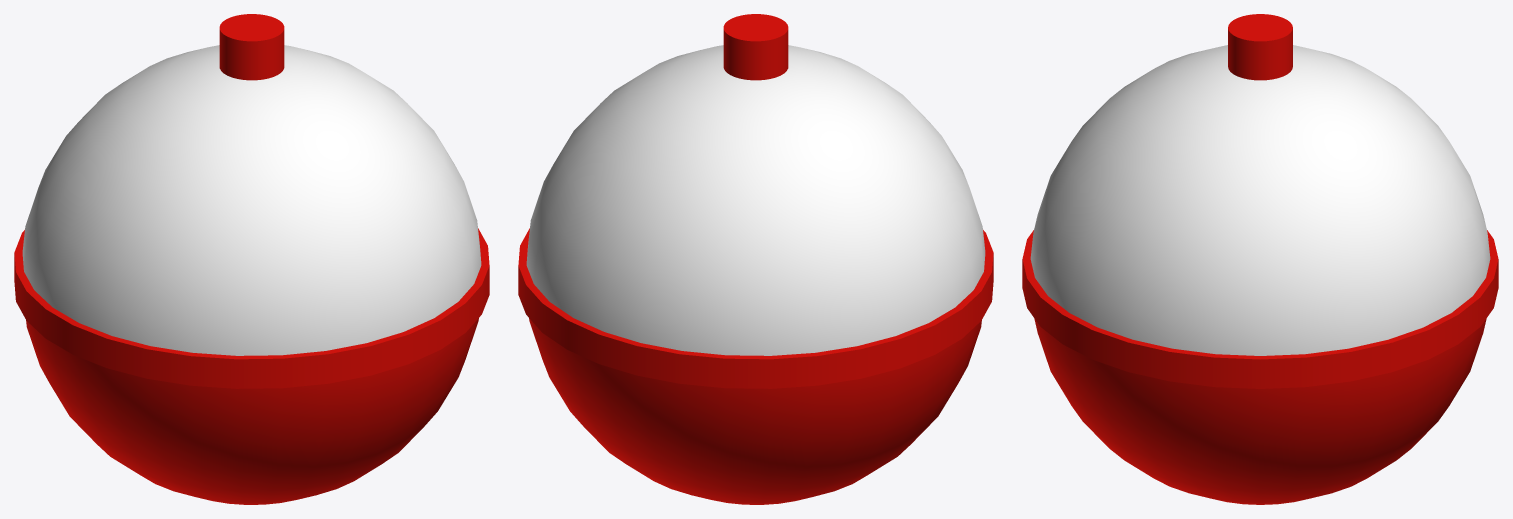
The model's file is default_bobber.fbx.
3 renders of one model, left to right at view 1: azimuth 30°, elevation 25°; view 2: azimuth 150°, elevation 25°; view 3: azimuth 270°, elevation 25°, orthographic.
Parts seen in each view (by area): view 1: Sphere, Middle Cylinder, Top Cylinder; view 2: Sphere, Middle Cylinder, Top Cylinder; view 3: Sphere, Middle Cylinder, Top Cylinder.
Part boxes in pixels (box(x1,y1,x2,y2)): Sphere: box(22, 45, 481, 504); Middle Cylinder: box(14, 228, 489, 388); Top Cylinder: box(219, 14, 284, 80); Sphere: box(526, 45, 985, 504); Middle Cylinder: box(518, 228, 993, 388); Top Cylinder: box(723, 14, 788, 80); Sphere: box(1030, 45, 1490, 504); Middle Cylinder: box(1022, 230, 1498, 388); Top Cylinder: box(1228, 14, 1292, 80).
Bounding box in the file's own units: 206 × 217 × 206.
